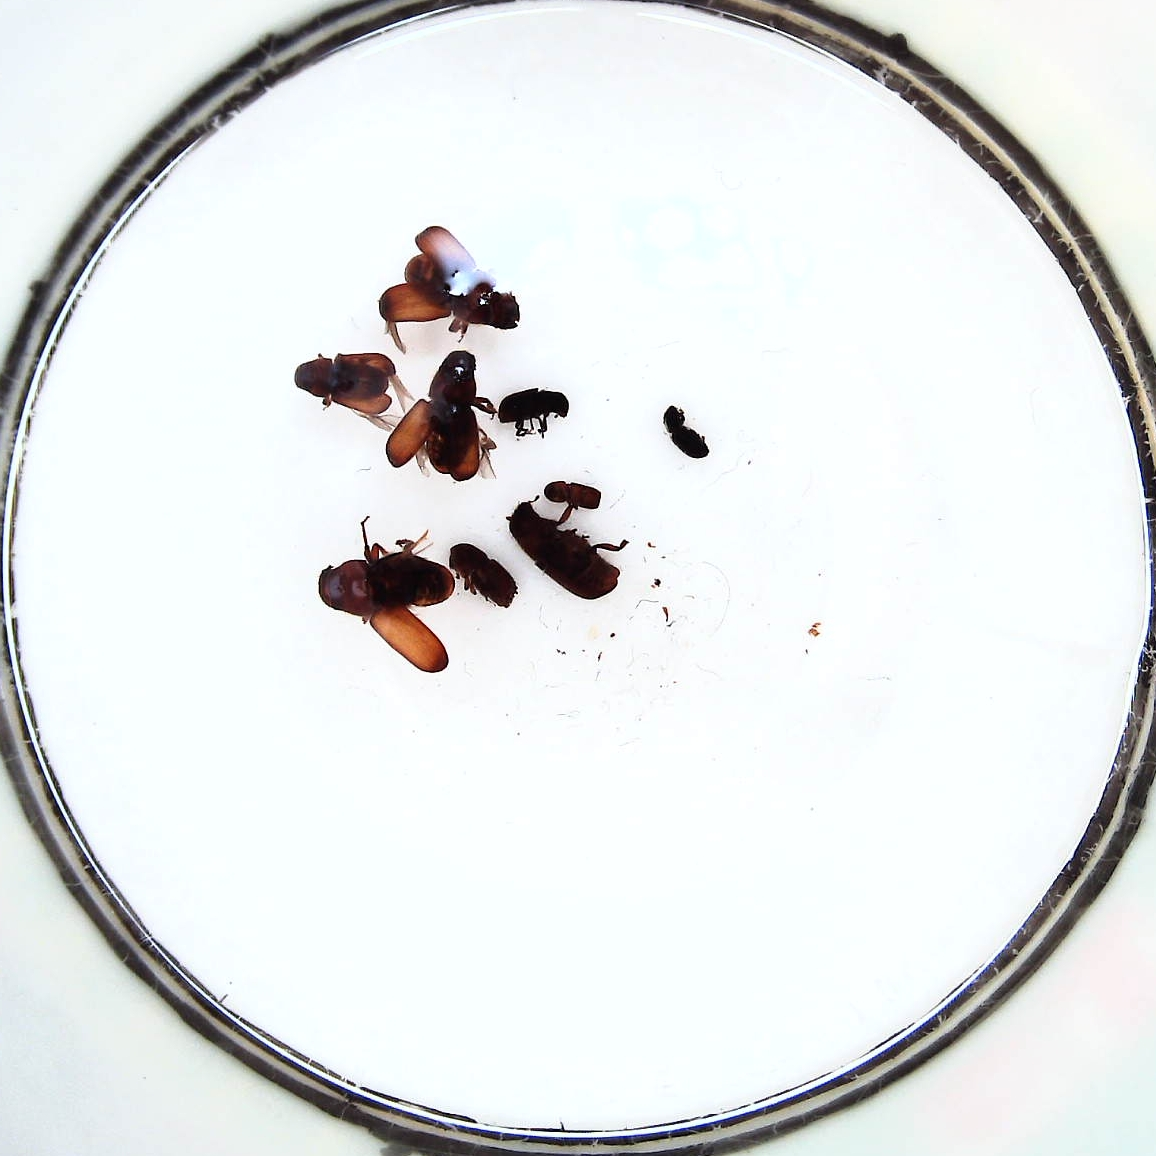Leconte: (317, 514, 453, 671), (378, 224, 523, 349), (392, 351, 498, 478), (513, 500, 625, 601), (293, 351, 407, 429)
Linnaeus: (449, 539, 518, 607)
acuminatus: (544, 478, 607, 508)
armandi: (496, 385, 571, 440)
coleoptera: (662, 407, 714, 462)
